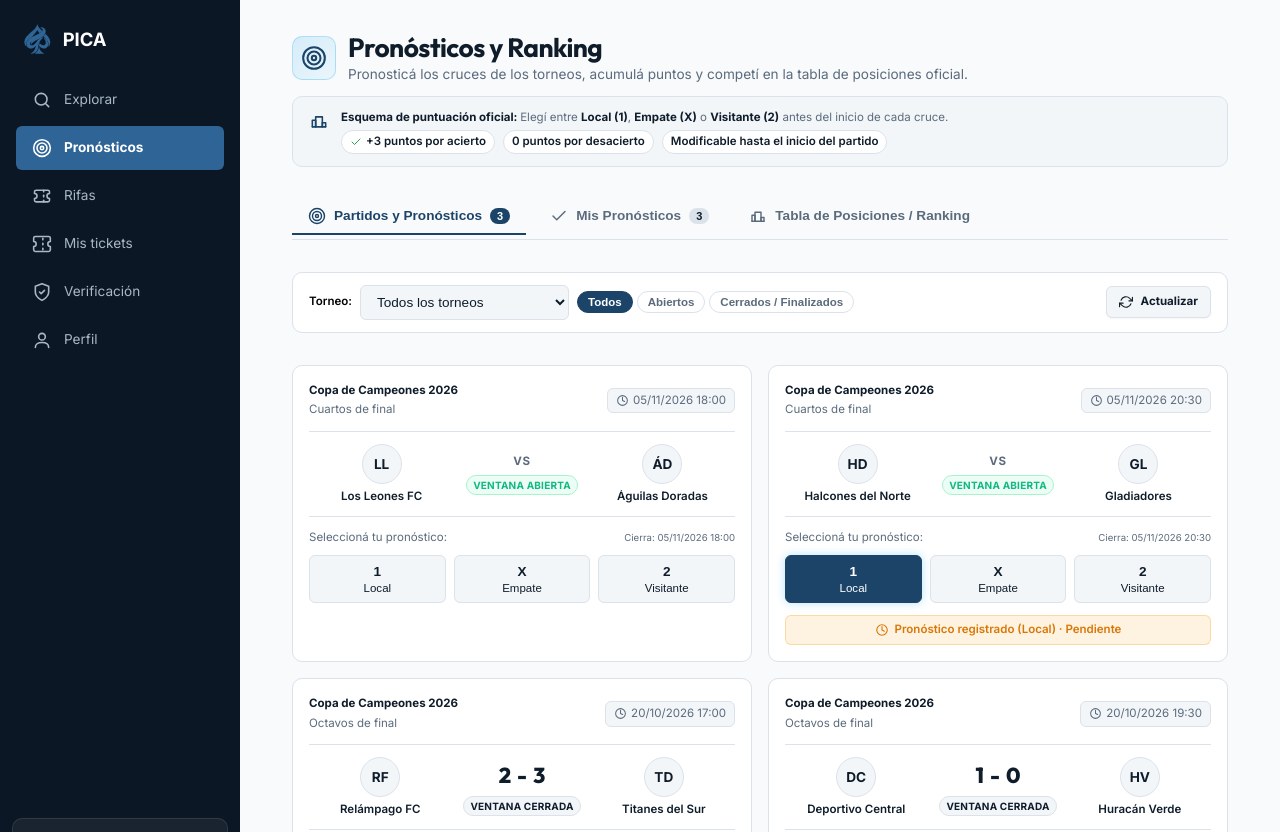
Scenario: HU-306 / T306-2: Pronósticos y ranking › si la API rechaza por ventana cerrada (409 PRONOSTICO_FUERA_DE_VENTANA) muestra el error
Click the button with aria-label "pronosticar victoria local" at (377, 579), box [309, 555, 446, 603]
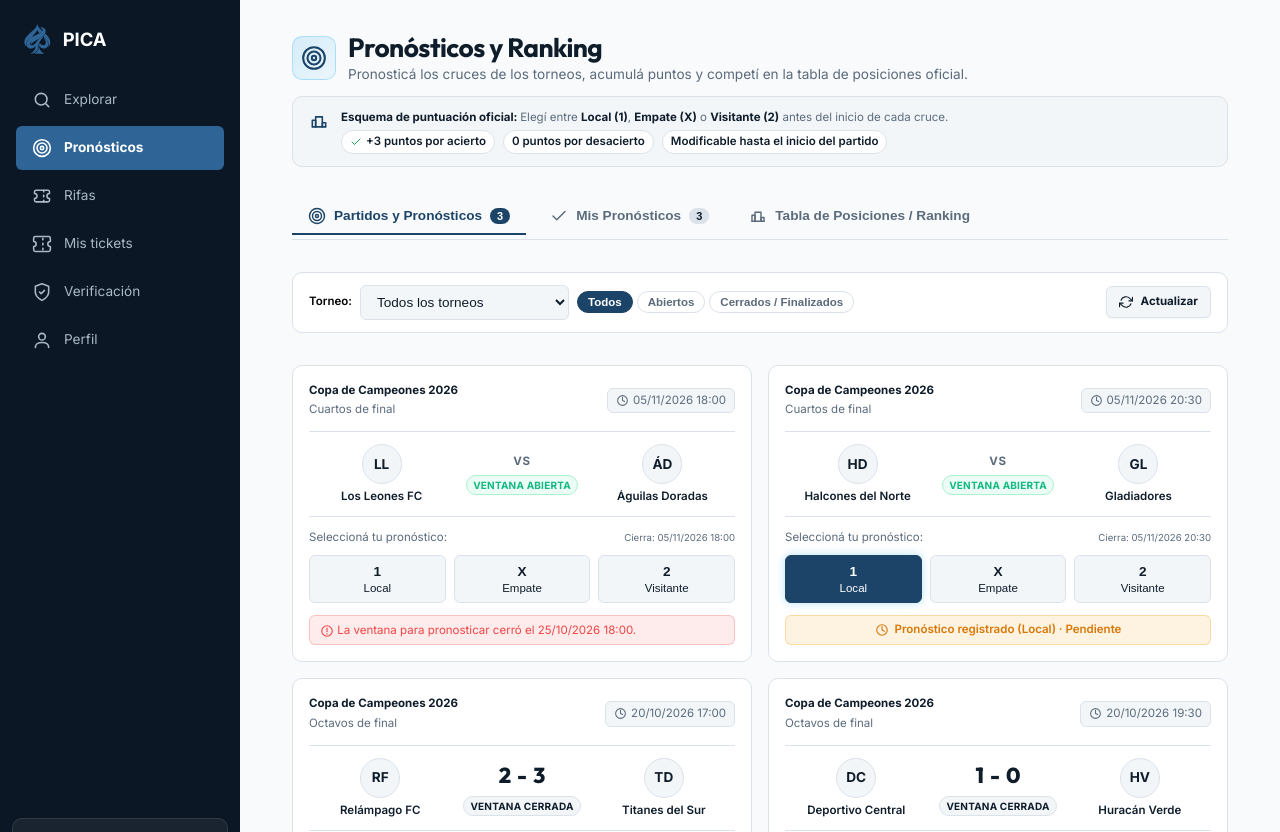
Result: the text "La ventana para pronosticar cerró el 25/10/2026 18:00." is shown at [309, 615, 735, 645]
